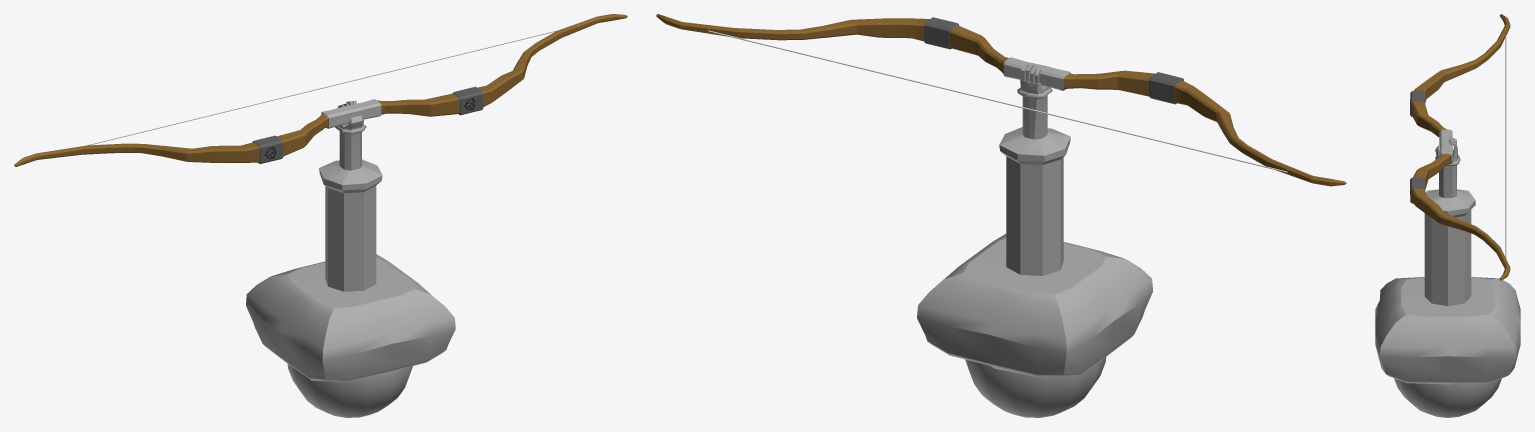
Rendered from pillar enemy bow.fbx.
3 renders of one model, left to right at view 1: azimuth 30°, elevation 25°; view 2: azimuth 150°, elevation 25°; view 3: azimuth 270°, elevation 25°, orthographic. The views are drawn at different scales.
Parts seen in each view (by area): view 1: bow:bowMesh1; view 2: bow:bowMesh1; view 3: bow:bowMesh1.
Part boxes in pixels (x1=…): bow:bowMesh1: x1=14, y1=14, x2=627, y2=417; bow:bowMesh1: x1=656, y1=14, x2=1346, y2=417; bow:bowMesh1: x1=1375, y1=14, x2=1520, y2=417.
Size of the model in its own units: 1493 by 719 by 346.
